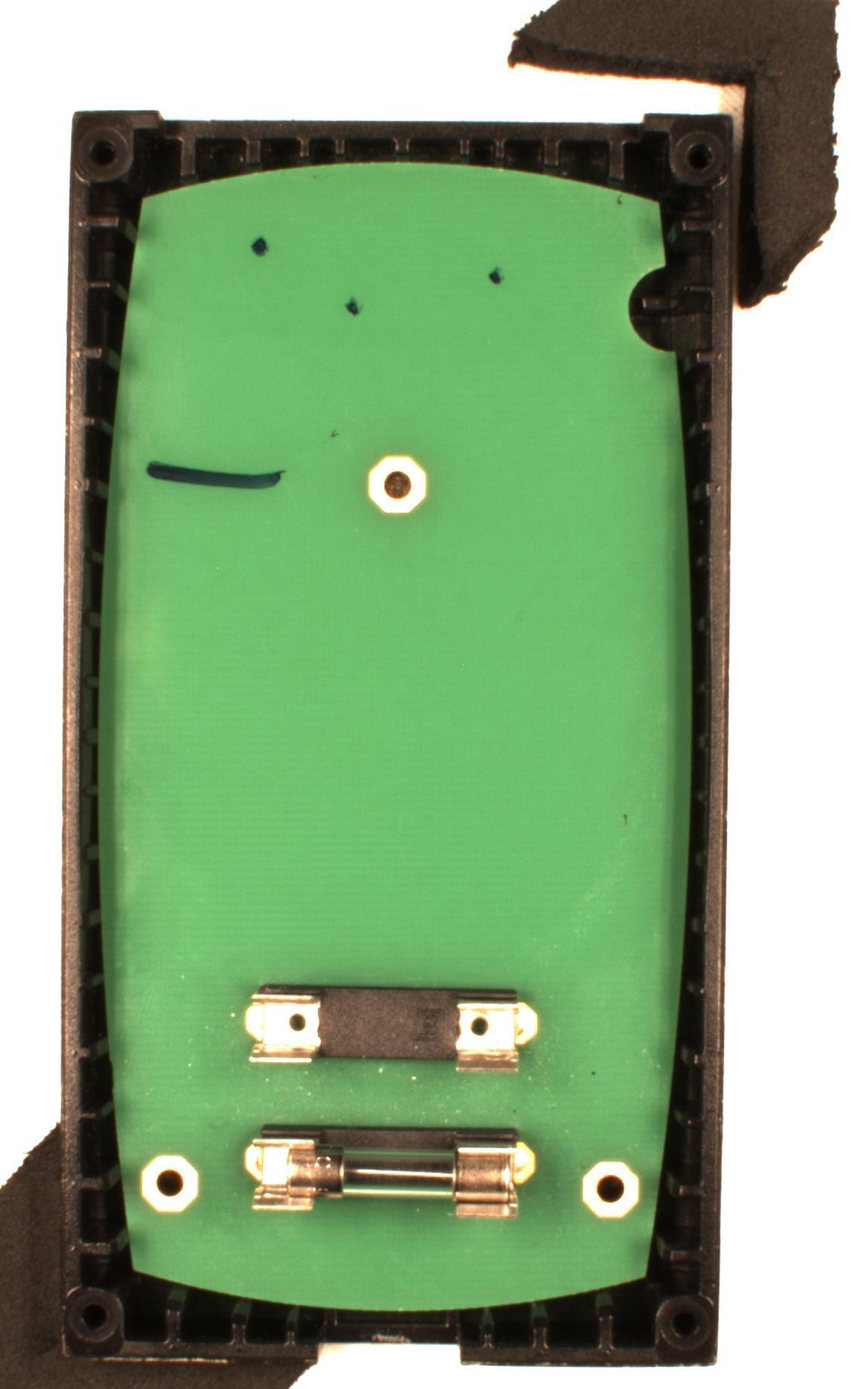Linijsko Ostecene: (144, 458, 287, 490)
Nepostojanje osiguraca: (245, 981, 538, 1074)
Tockasto Ostecenje: (344, 294, 365, 317), (250, 235, 271, 258), (487, 265, 506, 287)
